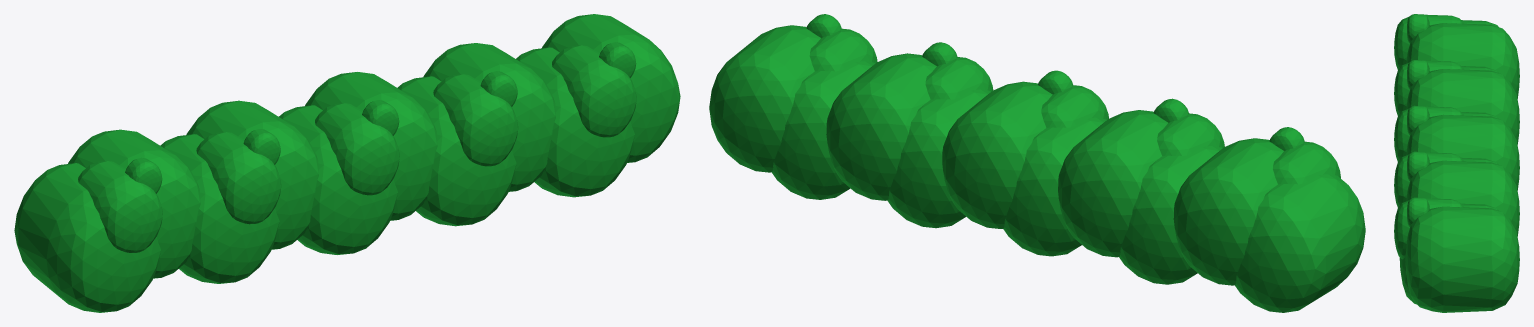
File: Bush2Wall.fbx
3 views of the same model, side by side, from view 1: azimuth 30°, elevation 25°; view 2: azimuth 150°, elevation 25°; view 3: azimuth 270°, elevation 25° (orthographic). The views are drawn at different scales.
Visible parts, largest first — view 1: Icosphere; view 2: Icosphere; view 3: Icosphere.
Part boxes in pixels (x1,y1,x2,y2): Icosphere: (14,14,680,312); Icosphere: (709,14,1365,312); Icosphere: (1394,14,1519,312).
Size of the model in its own units: 4776 by 1085 by 1042.
1 material, 1 textured.
